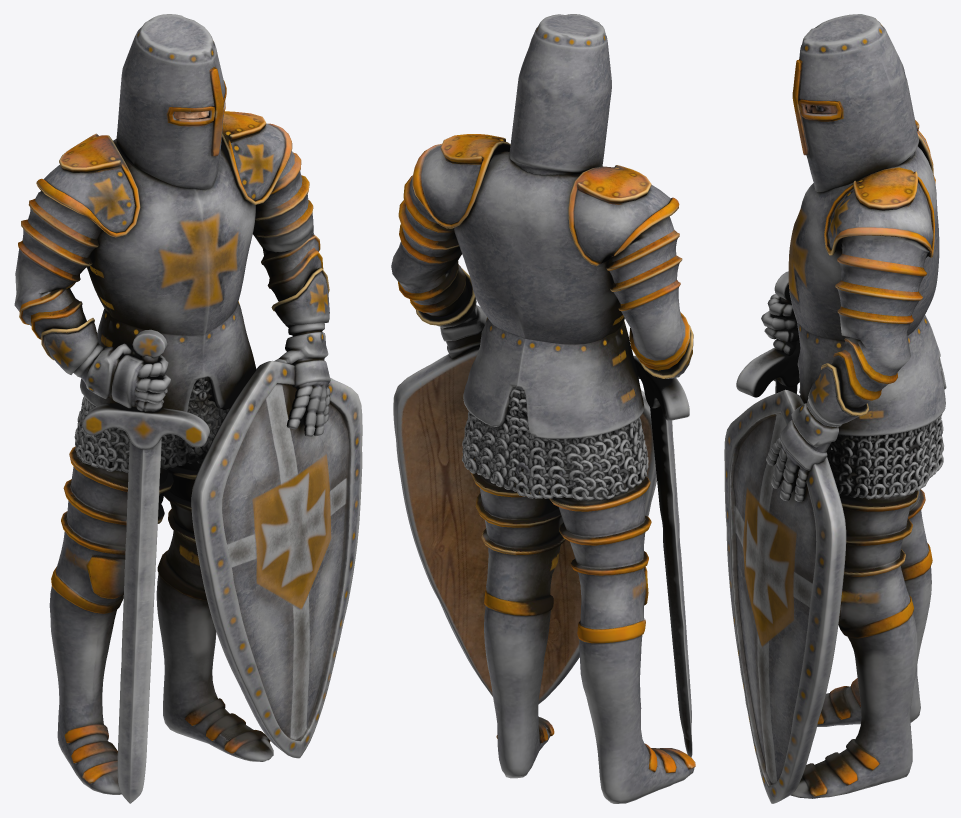
File: Armour.glb
3 renders of one model, left to right at view 1: azimuth 30°, elevation 25°; view 2: azimuth 150°, elevation 25°; view 3: azimuth 270°, elevation 25°, orthographic. The views are drawn at different scales.
Visible parts, largest first — view 1: Lower; view 2: Lower; view 3: Lower.
Part boxes in pixels (left/top/right/bottom): Lower: left=14, top=14, right=362, bottom=803; Lower: left=391, top=14, right=695, bottom=803; Lower: left=724, top=14, right=946, bottom=803.
Size of the model in its own units: 1.9 by 4.21 by 1.14.
2 materials, 2 textured.
